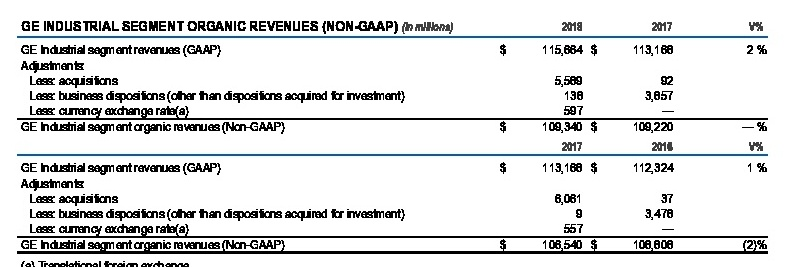table: (0, 0, 787, 267)
